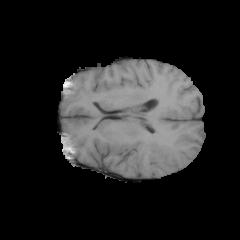glioma: (133, 131, 176, 173)
